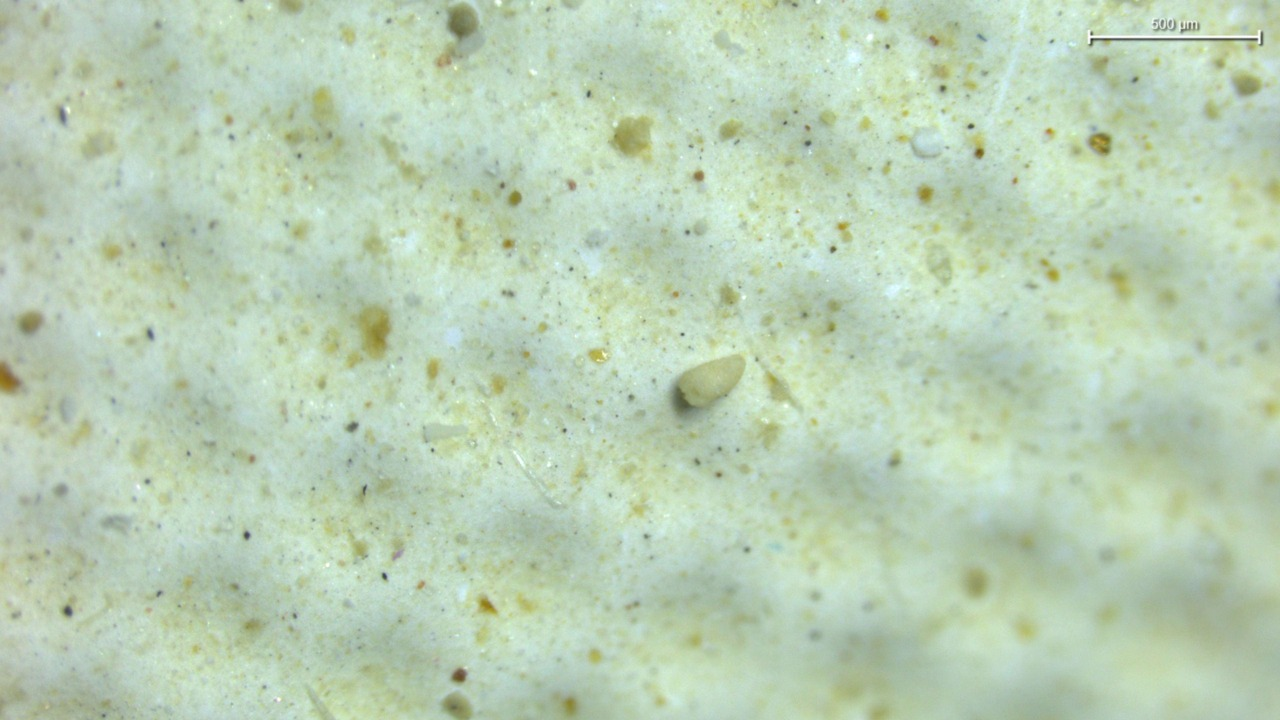microplastic_fragment: (678, 354, 746, 407), (912, 128, 944, 157)
